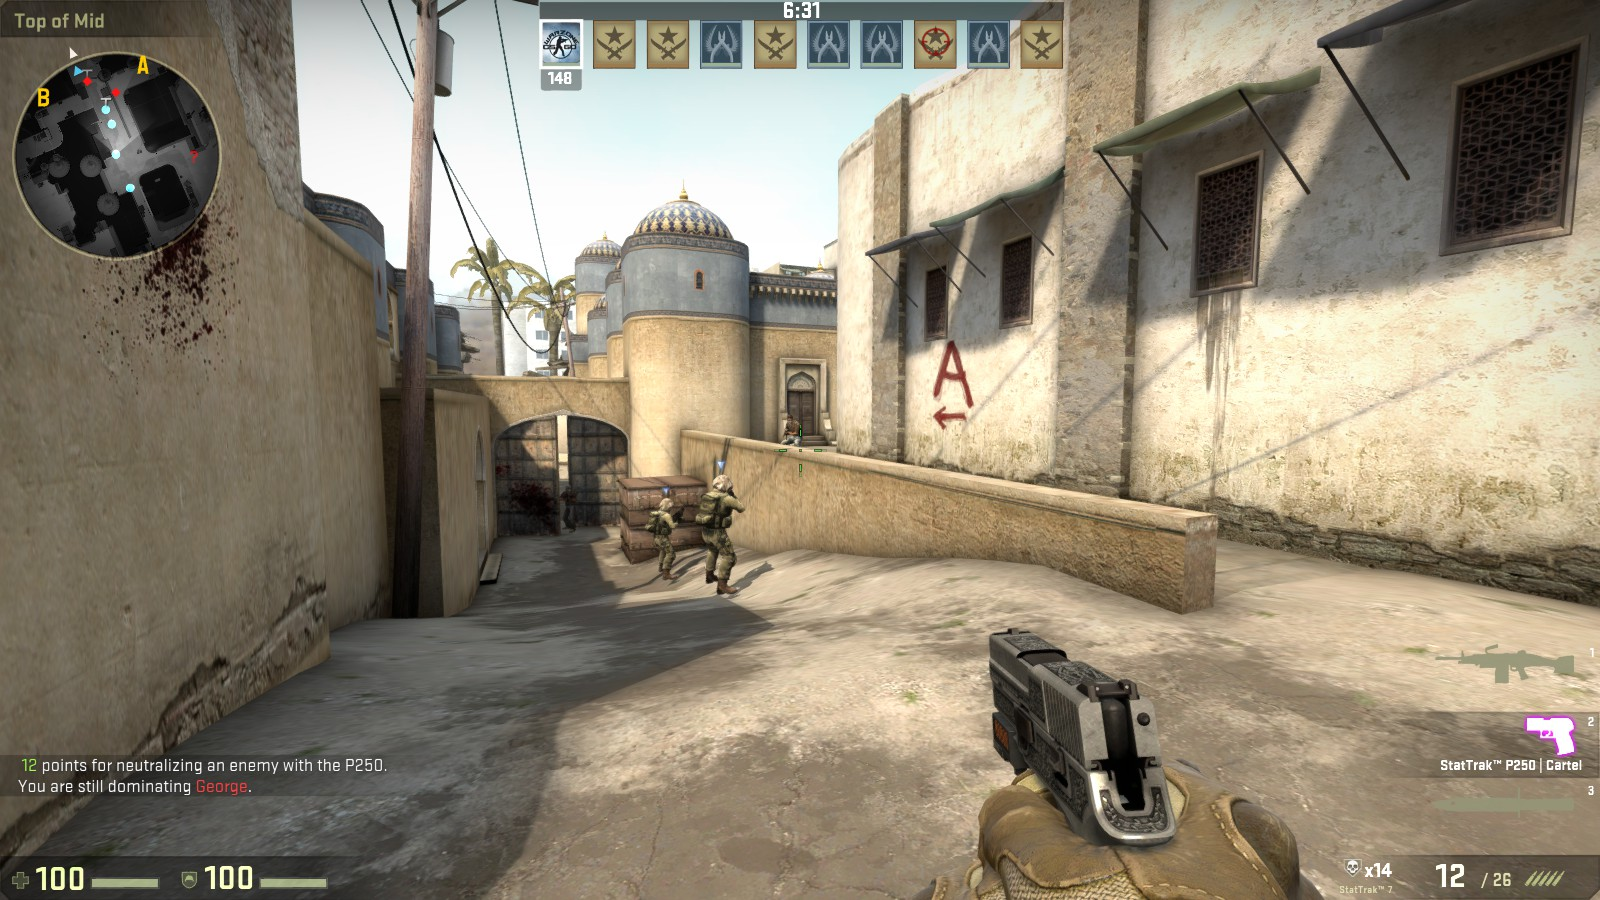c: (696, 474, 740, 595), (649, 497, 680, 581)
ch: (711, 474, 734, 495), (658, 497, 675, 514)
t: (781, 415, 804, 449), (563, 485, 575, 532)
th: (785, 415, 795, 425), (566, 485, 573, 495)
